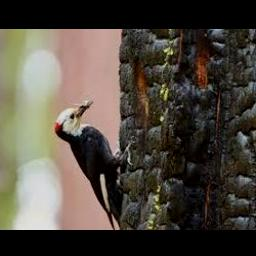Woodpecker: (56, 97, 135, 230)
